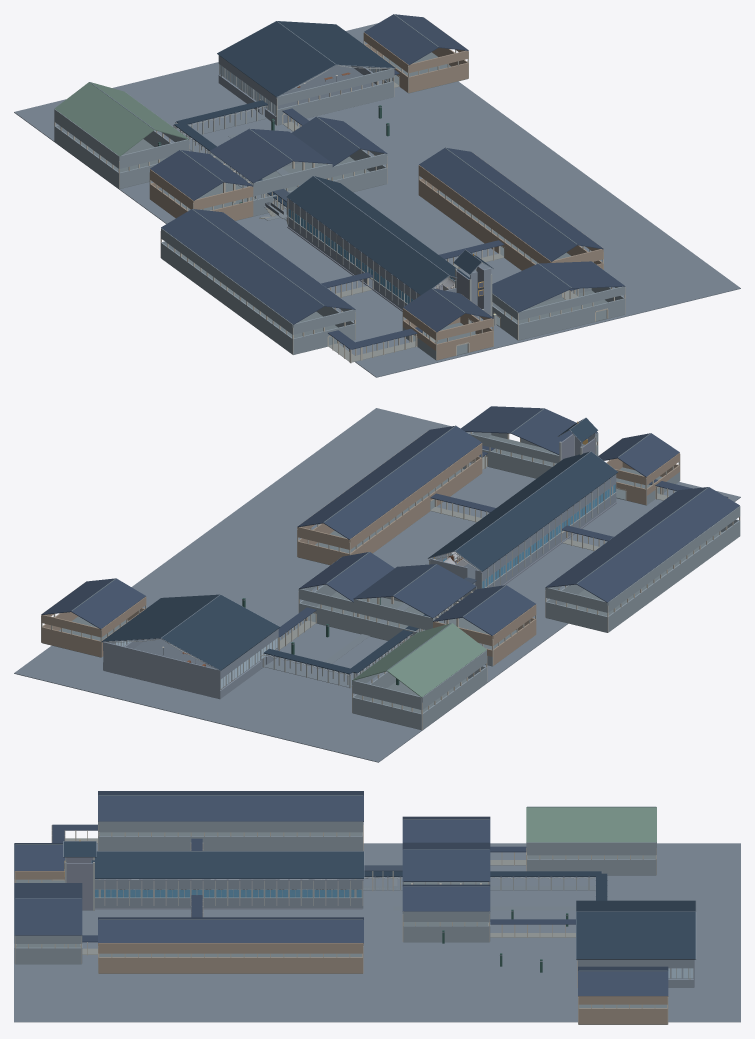
Rendered from lahudi-academy_LOCKED-PLAN-ACCESS-V10.glb.
The picture shows the model from 3 angles, top to bottom: view 1: azimuth 30°, elevation 25°; view 2: azimuth 150°, elevation 25°; view 3: azimuth 270°, elevation 25°; orthographic projection.
Parts seen in each view (by area): view 1: RG-GAME-02-EXTERIOR-REBUILD-V5__winter_campus_snowbase, RG-GAME-02-EXTERIOR-REBUILD-V5__academic_high_gable_slate_ro (×2), RG-GAME-02-EXTERIOR-REBUILD-V5__library_high_gable_slate_roo (×2), RG-GAME-02-PLAN-LOCK-V9__B_WEST_side_0, RG-GAME-02-PLAN-LOCK-V9__C_EAST_side_0, RG-GAME-02-PLAN-LOCK-V9__G_ASSEMBLY_side_0, RG-GAME-02-PLAN-LOCK-V9__B_WEST_side_1, RG-GAME-02-PLAN-LOCK-V9__B_WEST_west_wall_band_-68.00_24.00 (×2), RG-GAME-02-PLAN-LOCK-V9__C_EAST_west_wall_band_-68.00_24.00 (×2), RG-GAME-02-PLAN-LOCK-V9__E_CENTER_HALL_side_0, RG-GAME-02-PLAN-LOCK-V9__D_EAST_ENTRY_side_0, RG-GAME-02-PLAN-LOCK-V9__C_EAST_side_1 (+26 smaller); view 2: RG-GAME-02-EXTERIOR-REBUILD-V5__winter_campus_snowbase, RG-GAME-02-EXTERIOR-REBUILD-V5__academic_high_gable_slate_ro (×2), RG-GAME-02-EXTERIOR-REBUILD-V5__library_high_gable_slate_roo (×2), RG-GAME-02-PLAN-LOCK-V9__B_WEST_side_0, RG-GAME-02-PLAN-LOCK-V9__C_EAST_side_0, RG-GAME-02-EXTERIOR-REBUILD-V5__library_endwall_north, RG-GAME-02-PLAN-LOCK-V9__G_ASSEMBLY_side_0, RG-GAME-02-PLAN-LOCK-V9__B_WEST_side_1, RG-GAME-02-PLAN-LOCK-V9__B_WEST_west_wall_band_-68.00_24.00 (×2), RG-GAME-02-PLAN-LOCK-V9__C_EAST_west_wall_band_-68.00_24.00 (×2), RG-GAME-02-PLAN-LOCK-V9__E_CENTER_HALL_side_0, RG-GAME-02-PLAN-LOCK-V9__C_EAST_side_1 (+30 smaller); view 3: RG-GAME-02-EXTERIOR-REBUILD-V5__winter_campus_snowbase, RG-GAME-02-EXTERIOR-REBUILD-V5__academic_high_gable_slate_ro, RG-GAME-02-EXTERIOR-REBUILD-V5__library_high_gable_slate_roo (×2), RG-GAME-02-PLAN-LOCK-V9__B_WEST_side_1, RG-GAME-02-PLAN-LOCK-V9__C_EAST_side_1, RG-GAME-02-PLAN-LOCK-V9__C_EAST_east_wall_band_-68.00_24.00 (×2), RG-GAME-02-PLAN-LOCK-V9__B_WEST_east_wall_band_-68.00_24.00 (×2), RG-GAME-02-PLAN-LOCK-V9__G_ASSEMBLY_side_1, RG-GAME-02-PLAN-LOCK-V9__E_CENTER_HALL_side_1, RG-GAME-02-PLAN-LOCK-V9__G_ASSEMBLY_east_wall_band_-170.00_- (×2), RG-GAME-02-PLAN-LOCK-V9__C_EAST_east_low_wall_-68.00_24.00, RG-GAME-02-PLAN-LOCK-V9__D_EAST_ENTRY_side_1 (+31 smaller).
Boxes of the visible parts, x1,y1,x2,y2 form: RG-GAME-02-EXTERIOR-REBUILD-V5__winter_campus_snowbase: (14, 23, 740, 377); RG-GAME-02-EXTERIOR-REBUILD-V5__academic_high_gable_slate_ro (×2): (286, 176, 469, 295); RG-GAME-02-EXTERIOR-REBUILD-V5__library_high_gable_slate_roo (×2): (217, 21, 395, 97); RG-GAME-02-PLAN-LOCK-V9__B_WEST_side_0: (161, 209, 324, 324); RG-GAME-02-PLAN-LOCK-V9__C_EAST_side_0: (419, 148, 577, 261); RG-GAME-02-PLAN-LOCK-V9__G_ASSEMBLY_side_0: (54, 82, 154, 156); RG-GAME-02-PLAN-LOCK-V9__B_WEST_side_1: (193, 209, 355, 309); RG-GAME-02-PLAN-LOCK-V9__B_WEST_west_wall_band_-68.00_24.00 (×2): (161, 228, 292, 344); RG-GAME-02-PLAN-LOCK-V9__C_EAST_west_wall_band_-68.00_24.00 (×2): (418, 165, 550, 266); RG-GAME-02-PLAN-LOCK-V9__E_CENTER_HALL_side_0: (210, 129, 292, 183); RG-GAME-02-PLAN-LOCK-V9__D_EAST_ENTRY_side_0: (492, 264, 571, 312); RG-GAME-02-PLAN-LOCK-V9__C_EAST_side_1: (445, 147, 603, 249); RG-GAME-02-EXTERIOR-REBUILD-V5__winter_campus_snowbase: (14, 408, 740, 762); RG-GAME-02-EXTERIOR-REBUILD-V5__academic_high_gable_slate_ro (×2): (428, 451, 617, 571); RG-GAME-02-EXTERIOR-REBUILD-V5__library_high_gable_slate_roo (×2): (102, 594, 279, 670); RG-GAME-02-PLAN-LOCK-V9__B_WEST_side_0: (576, 487, 739, 602); RG-GAME-02-PLAN-LOCK-V9__C_EAST_side_0: (323, 426, 481, 539); RG-GAME-02-EXTERIOR-REBUILD-V5__library_endwall_north: (103, 642, 220, 698); RG-GAME-02-PLAN-LOCK-V9__G_ASSEMBLY_side_0: (387, 623, 486, 697); RG-GAME-02-PLAN-LOCK-V9__B_WEST_side_1: (545, 487, 707, 587); RG-GAME-02-PLAN-LOCK-V9__B_WEST_west_wall_band_-68.00_24.00 (×2): (608, 506, 740, 623); RG-GAME-02-PLAN-LOCK-V9__C_EAST_west_wall_band_-68.00_24.00 (×2): (350, 443, 482, 554); RG-GAME-02-PLAN-LOCK-V9__E_CENTER_HALL_side_0: (393, 564, 476, 618); RG-GAME-02-PLAN-LOCK-V9__C_EAST_side_1: (297, 425, 455, 527); RG-GAME-02-EXTERIOR-REBUILD-V5__winter_campus_snowbase: (14, 843, 740, 1022); RG-GAME-02-EXTERIOR-REBUILD-V5__academic_high_gable_slate_ro: (91, 851, 363, 878); RG-GAME-02-EXTERIOR-REBUILD-V5__library_high_gable_slate_roo (×2): (576, 900, 695, 959); RG-GAME-02-PLAN-LOCK-V9__B_WEST_side_1: (98, 795, 363, 821); RG-GAME-02-PLAN-LOCK-V9__C_EAST_side_1: (98, 919, 363, 942); RG-GAME-02-PLAN-LOCK-V9__C_EAST_east_wall_band_-68.00_24.00 (×2): (98, 943, 362, 964); RG-GAME-02-PLAN-LOCK-V9__B_WEST_east_wall_band_-68.00_24.00 (×2): (98, 821, 362, 842); RG-GAME-02-PLAN-LOCK-V9__G_ASSEMBLY_side_1: (526, 807, 656, 842); RG-GAME-02-PLAN-LOCK-V9__E_CENTER_HALL_side_1: (402, 849, 490, 881); RG-GAME-02-PLAN-LOCK-V9__G_ASSEMBLY_east_wall_band_-170.00_- (×2): (527, 842, 656, 865); RG-GAME-02-PLAN-LOCK-V9__C_EAST_east_low_wall_-68.00_24.00: (98, 964, 362, 973); RG-GAME-02-PLAN-LOCK-V9__D_EAST_ENTRY_side_1: (14, 898, 82, 935).
Bounding box in the file's own units: 167 × 26.24 × 253.
